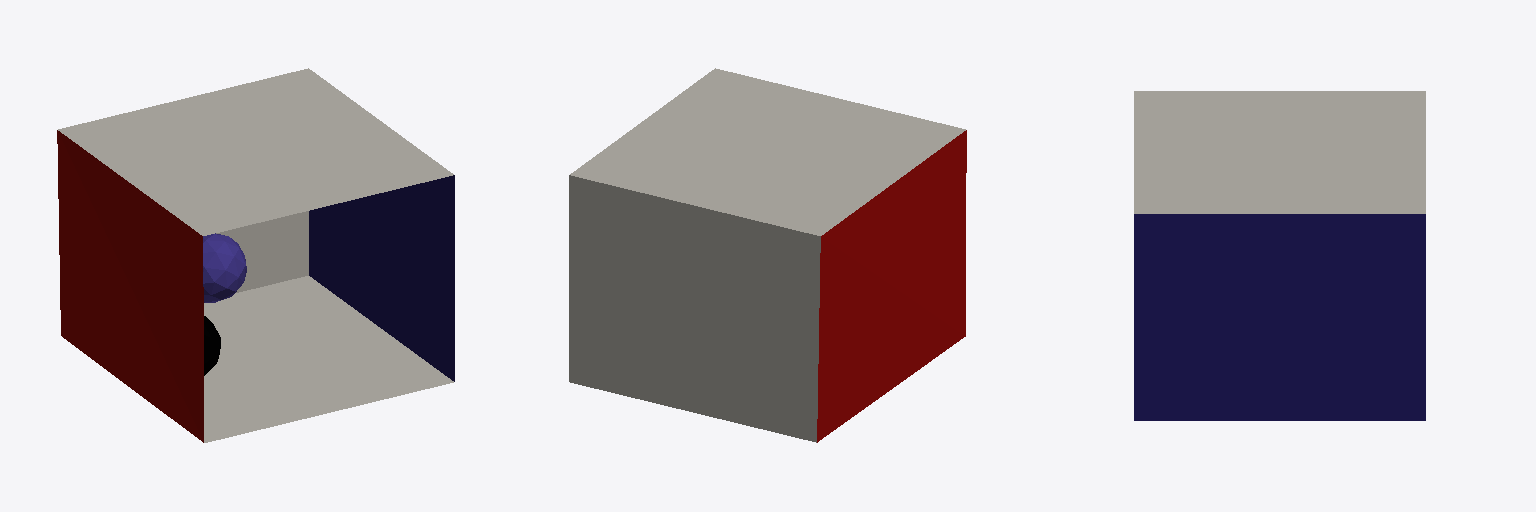
The model's file is CornellBox-Sphere-964.obj.
3 views of the same model, side by side, from view 1: azimuth 30°, elevation 25°; view 2: azimuth 150°, elevation 25°; view 3: azimuth 270°, elevation 25° (orthographic).
Parts seen in each view (by area): view 1: ceiling, leftWall, floor, rightWall, backWall, leftSphere, rightSphere; view 2: backWall, ceiling, leftWall; view 3: rightWall, ceiling.
Part boxes in pixels (x1,y1,x2,y2): ceiling: (58, 68, 453, 235); leftWall: (57, 130, 203, 442); floor: (204, 276, 453, 442); rightWall: (309, 175, 454, 381); backWall: (216, 211, 308, 292); leftSphere: (203, 233, 246, 302); rightSphere: (204, 316, 220, 375); backWall: (569, 175, 820, 442); ceiling: (570, 68, 965, 235); leftWall: (817, 130, 966, 442); rightWall: (1134, 214, 1425, 420); ceiling: (1134, 91, 1425, 213).
Size of the model in its own units: 2.02 by 1.59 by 2.03.